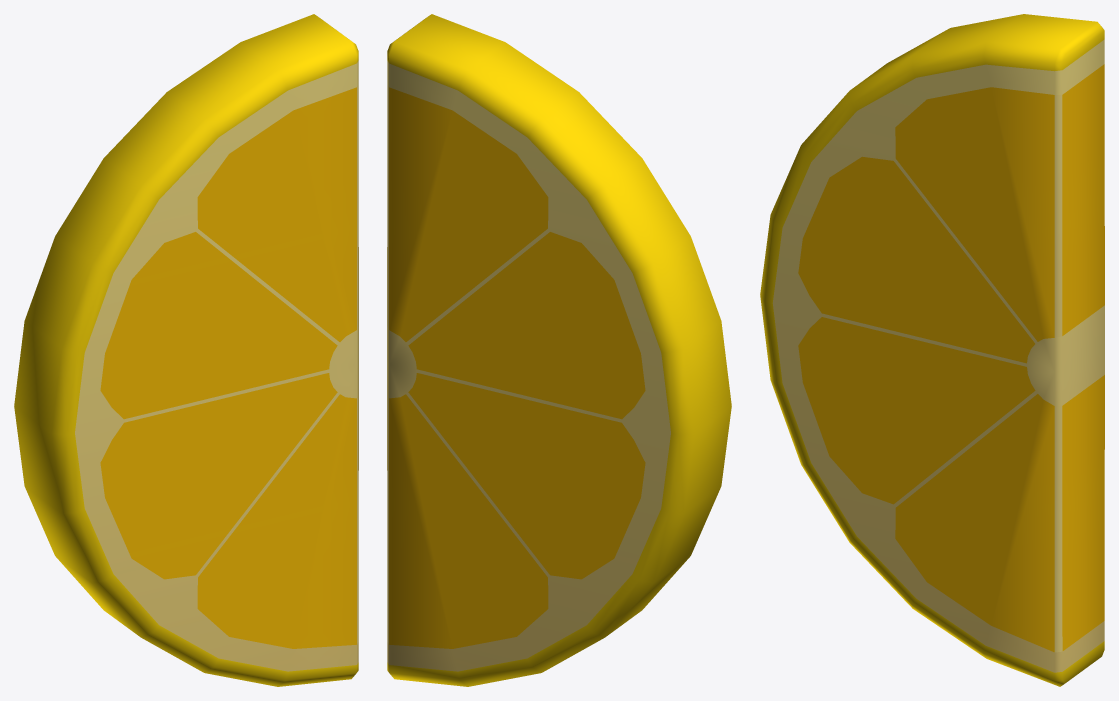
Rendered from Half_a_lemon_wedge.fbx.
3 views of the same model, side by side, from view 1: azimuth 30°, elevation 25°; view 2: azimuth 150°, elevation 25°; view 3: azimuth 330°, elevation 25° (orthographic).
Visible parts, largest first — view 1: Half_a_lemon_wedge; view 2: Half_a_lemon_wedge; view 3: Half_a_lemon_wedge.
Part boxes in pixels (x1,y1,x2,y2): Half_a_lemon_wedge: (14,14,358,686); Half_a_lemon_wedge: (387,14,731,686); Half_a_lemon_wedge: (760,14,1104,686).
Size of the model in its own units: 49.72 by 99.43 by 13.61.
